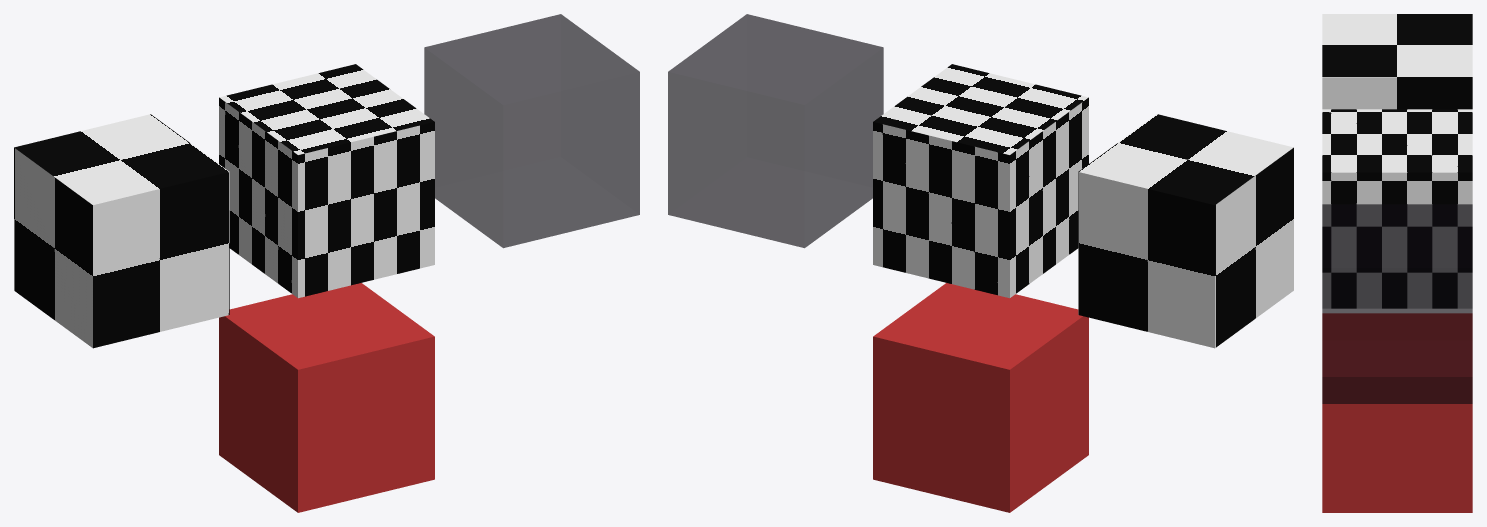
Rendered from cubes_with_textures.obj.
3 views of the same model, side by side, from view 1: azimuth 30°, elevation 25°; view 2: azimuth 150°, elevation 25°; view 3: azimuth 270°, elevation 25° (orthographic). The views are drawn at different scales.
Parts seen in each view (by area): view 1: Cube4Tex, CubeTexMul, CubeTiledTex, CubeTiledTexFromAnotherFolder; view 2: Cube4Tex, CubeTexMul, CubeTiledTex, CubeTiledTexFromAnotherFolder; view 3: CubeTiledTex, CubeTiledTexFromAnotherFolder, CubeTexMul, Cube4Tex.
Part boxes in pixels (box(x1,y1,x2,y2)): Cube4Tex: box(14, 114, 229, 348); CubeTexMul: box(219, 283, 434, 512); CubeTiledTex: box(219, 64, 434, 298); CubeTiledTexFromAnotherFolder: box(424, 14, 639, 247); Cube4Tex: box(1078, 114, 1293, 348); CubeTexMul: box(873, 283, 1088, 512); CubeTiledTex: box(873, 64, 1088, 298); CubeTiledTexFromAnotherFolder: box(668, 14, 883, 247); CubeTiledTex: box(1322, 109, 1472, 308); CubeTiledTexFromAnotherFolder: box(1322, 204, 1472, 403); CubeTexMul: box(1322, 313, 1472, 512); Cube4Tex: box(1322, 14, 1472, 109).
Bounding box in the file's own units: 8 × 5 × 2.
